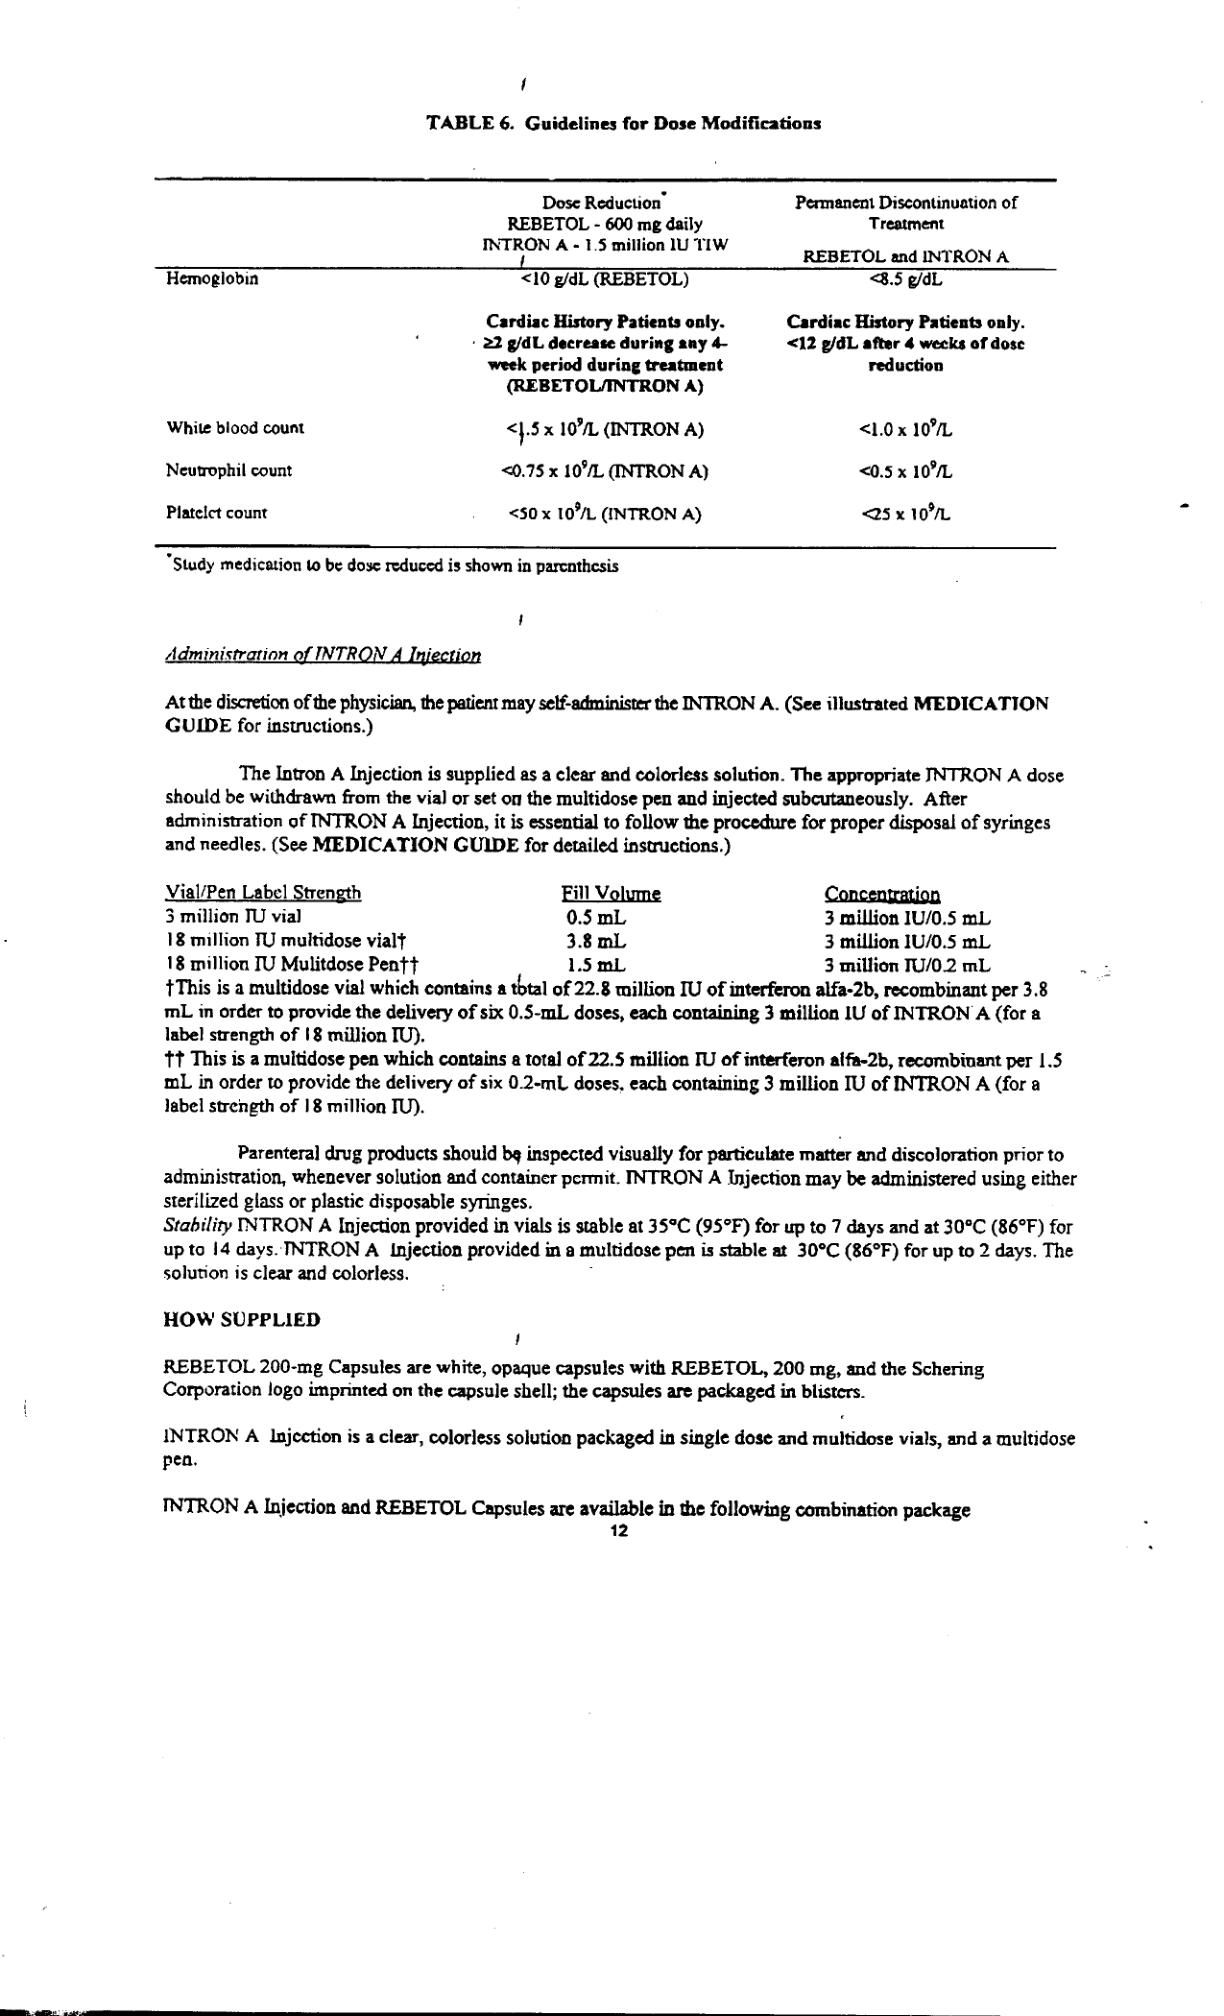partial_lined: (153, 174, 1058, 553)
